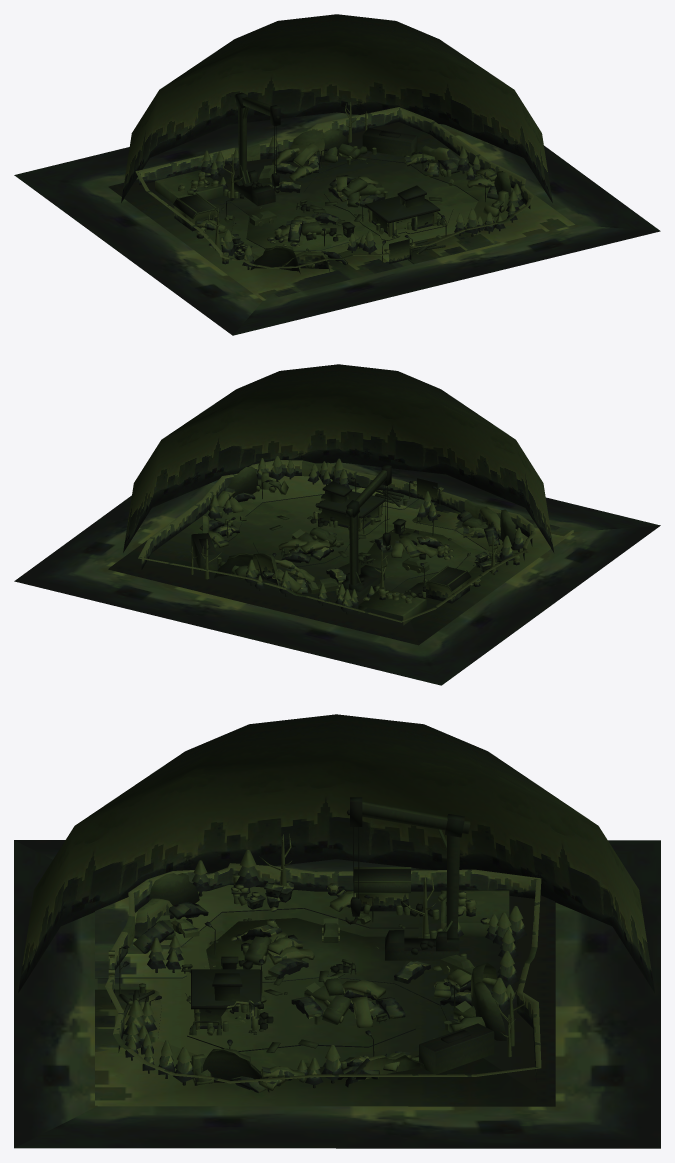
File: Combined_Mesh_root_scene__8_c5249964__junkyard_diffuse_10_d_1dc1be36_c1f257.obj
The picture shows the model from 3 angles, top to bottom: view 1: azimuth 30°, elevation 25°; view 2: azimuth 150°, elevation 25°; view 3: azimuth 270°, elevation 25°; orthographic projection. The views are drawn at different scales.
Size of the model in its own units: 109 by 41.29 by 96.33.
294 materials, 294 textured.
